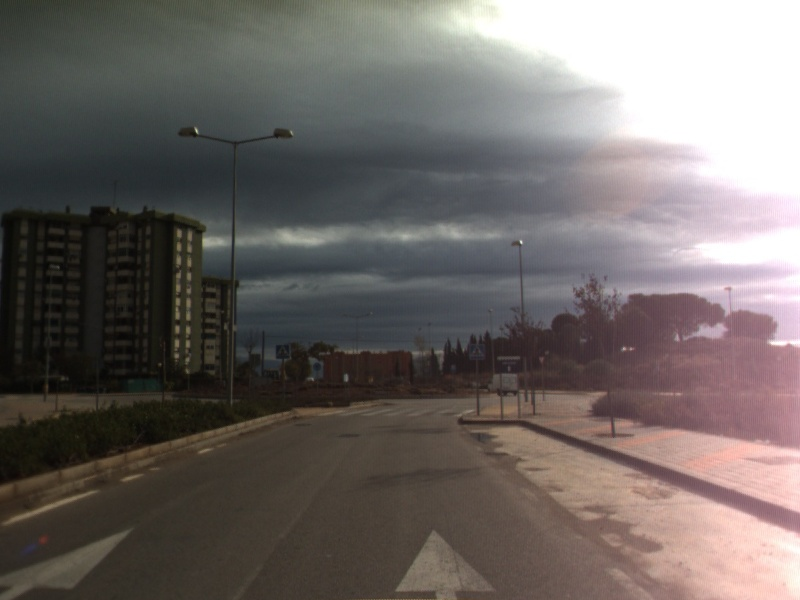STRAIGHT: (1, 521, 139, 600), (391, 525, 500, 600)
